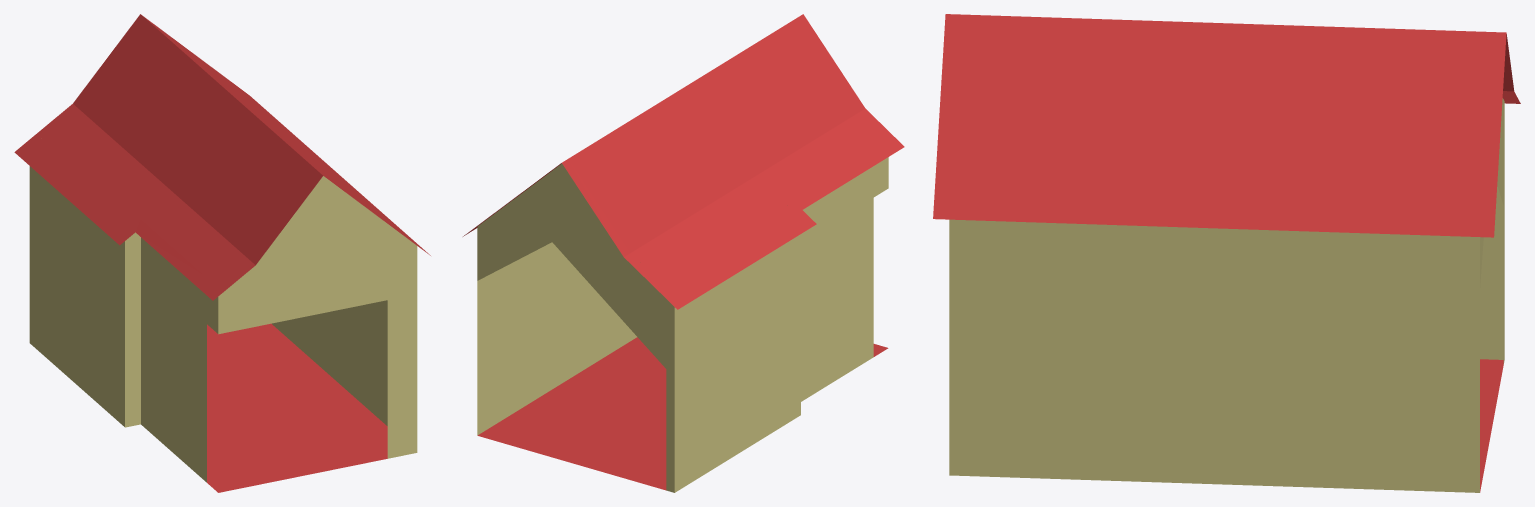
The picture shows the model from 3 angles, left to right: view 1: azimuth 30°, elevation 25°; view 2: azimuth 150°, elevation 25°; view 3: azimuth 270°, elevation 25°; orthographic projection. The views are drawn at different scales.
Bounding box in the file's own units: 12.16 × 19.31 × 14.49.
